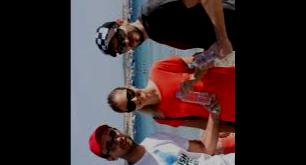Plastic: (188, 40, 228, 70), (174, 88, 215, 104)
